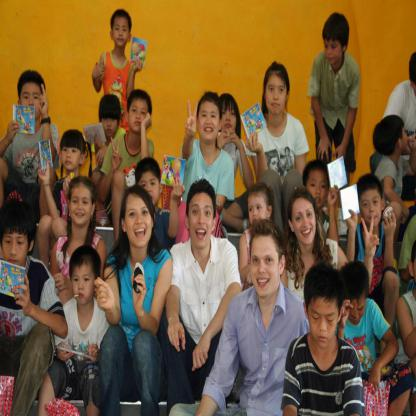face: (252, 242, 280, 297), (309, 302, 339, 348), (126, 203, 153, 248), (190, 199, 214, 249), (3, 231, 28, 268), (72, 267, 95, 304), (294, 208, 317, 244), (21, 88, 44, 121), (267, 79, 287, 115), (71, 191, 92, 225), (307, 175, 329, 207), (200, 107, 220, 141), (362, 193, 382, 226), (139, 176, 160, 206), (130, 101, 149, 132), (250, 200, 270, 228), (62, 144, 81, 170), (326, 37, 343, 65), (221, 106, 237, 135), (113, 20, 130, 47), (102, 110, 119, 136), (350, 299, 367, 323), (401, 130, 410, 152)
